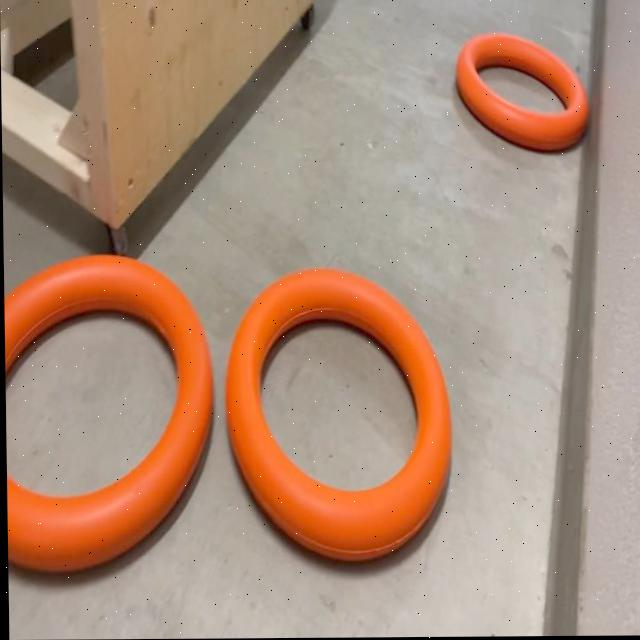note: (220, 259, 455, 576), (3, 245, 213, 580), (454, 30, 591, 158)
